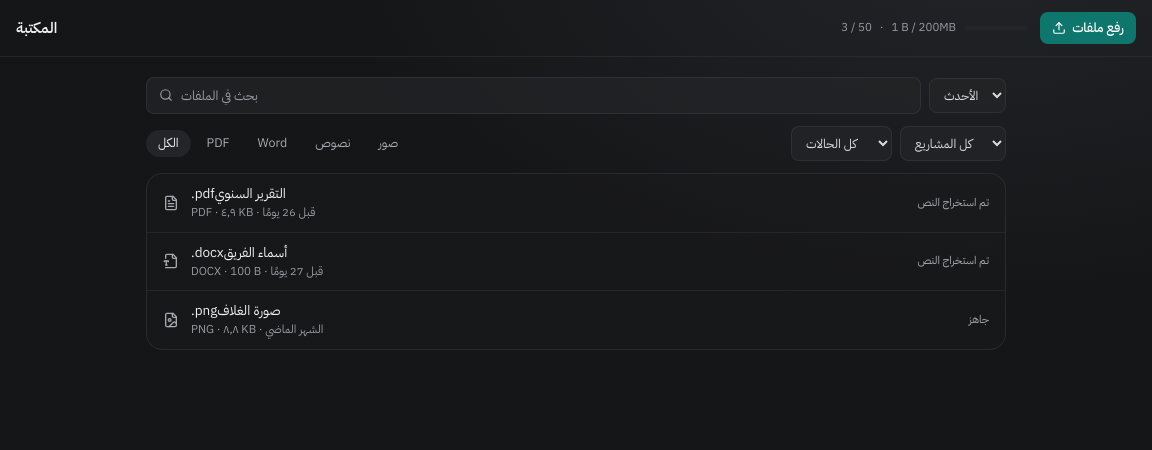
المكتبة: الإجراءات › إعادة التسمية: الامتداد ثابت، والطلب PATCH {name}، والنتيجة معلنة
The width and height of the screenshot is (1152, 450).
Step 1. Click the button "التقرير السنوي.pdf PDF · ٤٫٩ KB · قبل 26 يومًا" → (250, 194), box [163,174,905,232]
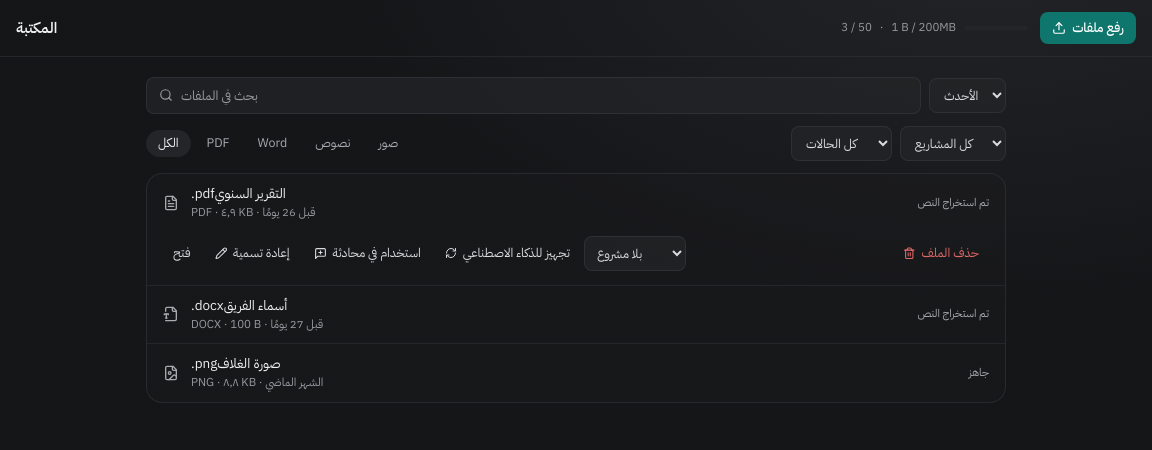
Step 2. Click the button "إعادة تسمية" → (252, 253), box [204,238,300,268]
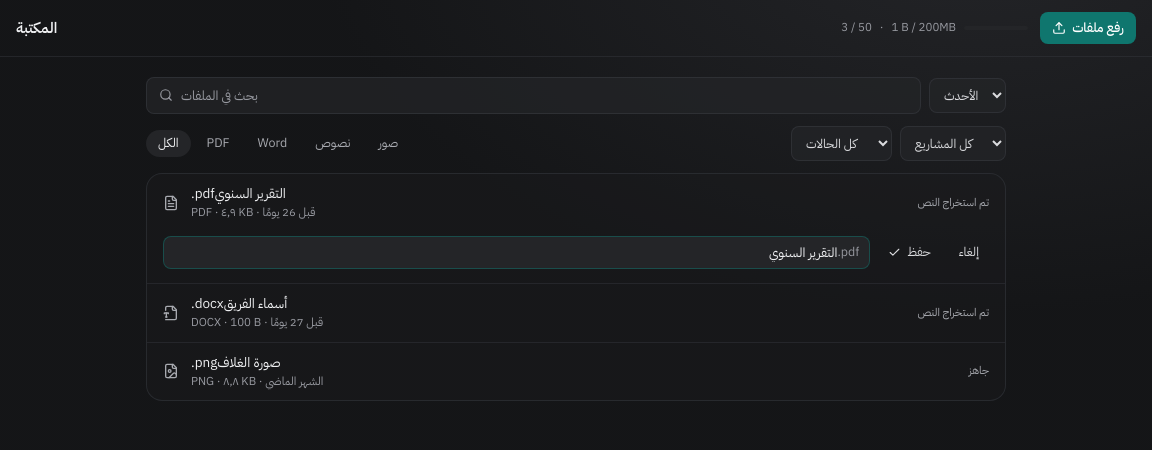
Result: the field named "اسم الملف" holds "التقرير السنوي"
Step 3. Replace the text in the field named "اسم الملف" with "تقرير 2026" → (506, 252), box [174,236,837,268]
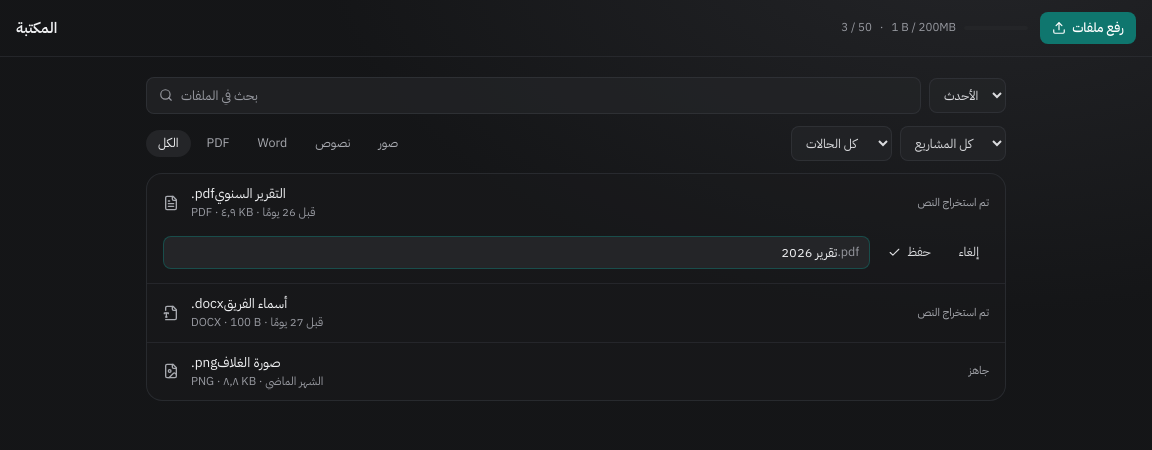
Step 4. Click the button "حفظ" → (909, 252), box [878,237,941,268]
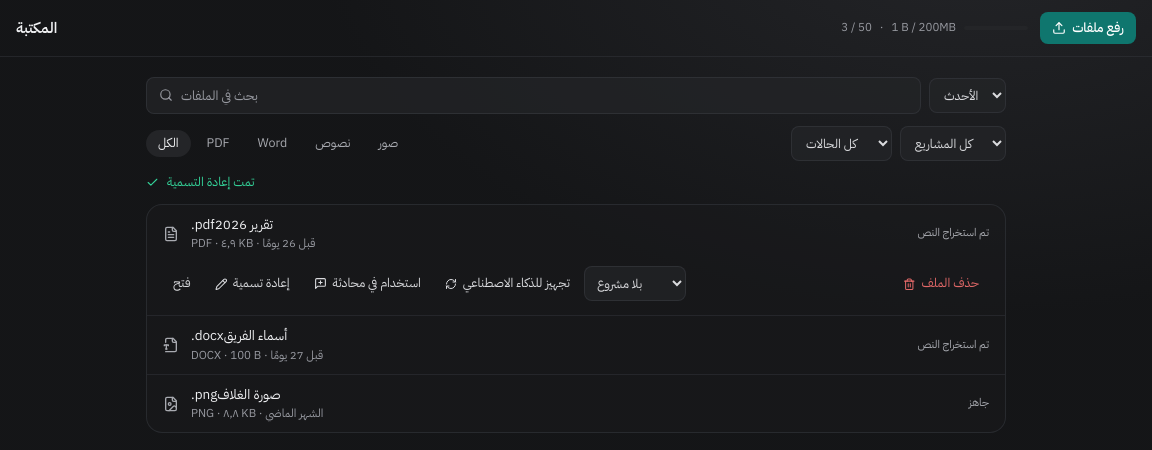
Result: the message reads "تمت إعادة التسمية" at [167,172,254,191]
